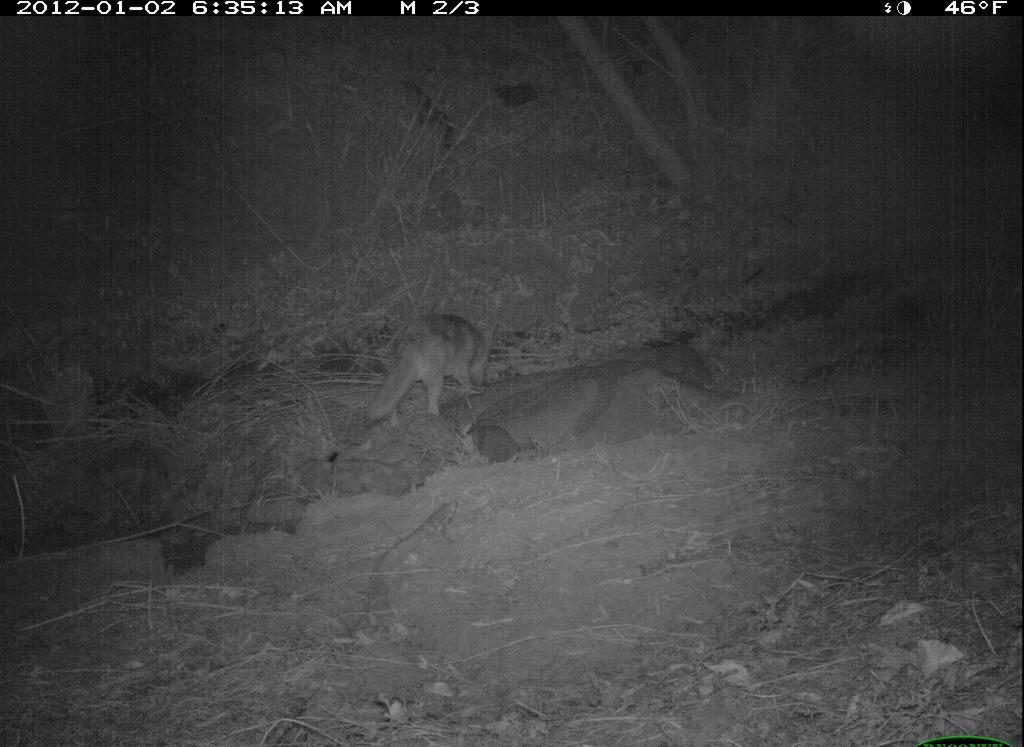coyote: (354, 303, 510, 442)
